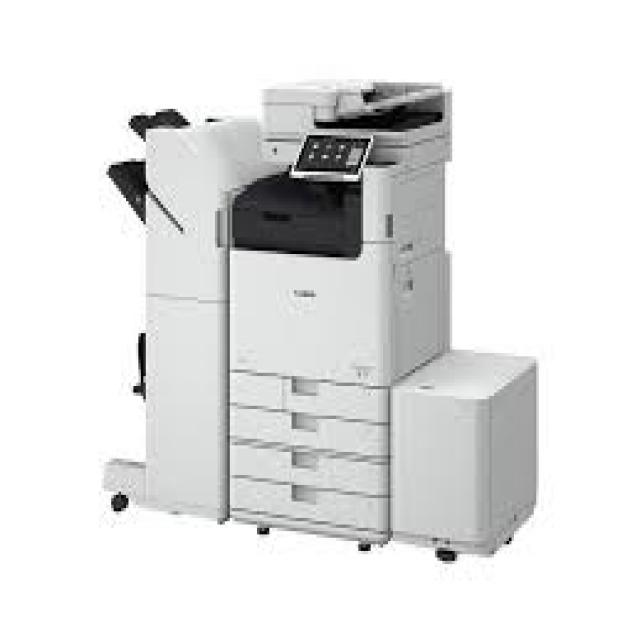printer: (63, 54, 578, 582)
